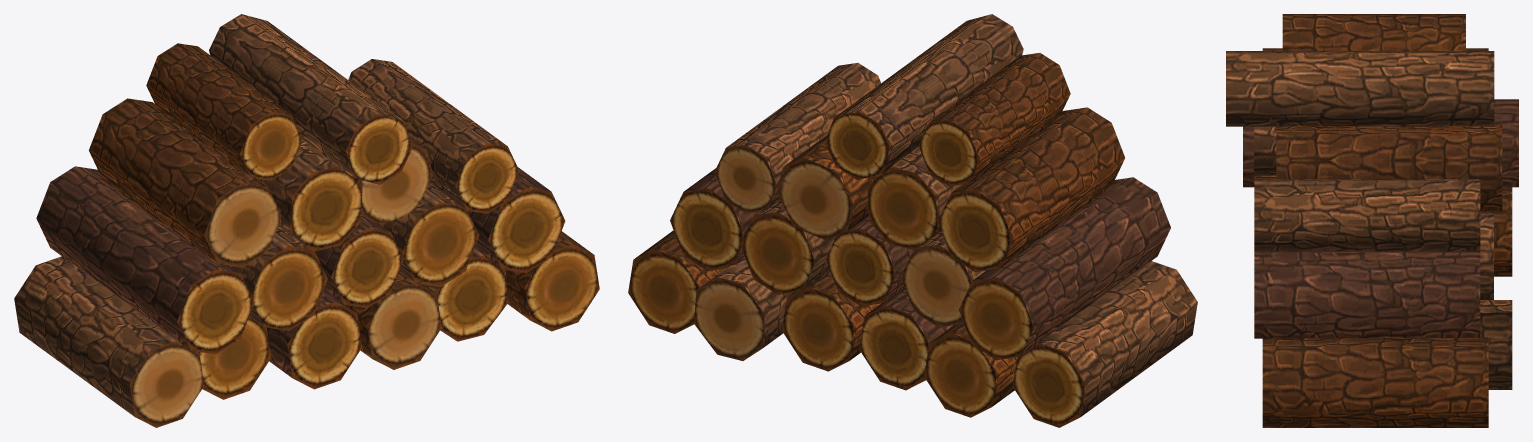
Rendered from woodpile_b.gltf.
The picture shows the model from 3 angles, left to right: view 1: azimuth 30°, elevation 25°; view 2: azimuth 150°, elevation 25°; view 3: azimuth 270°, elevation 25°; orthographic projection. The views are drawn at different scales.
Visible parts, largest first — view 1: woodPile_B; view 2: woodPile_B; view 3: woodPile_B.
Part boxes in pixels (box(x1,y1,x2,y2)): woodPile_B: box(14, 14, 599, 427); woodPile_B: box(628, 14, 1197, 427); woodPile_B: box(1226, 14, 1518, 427).
Size of the model in its own units: 1.32 by 0.7489 by 0.7288.
1 material, 1 textured.
